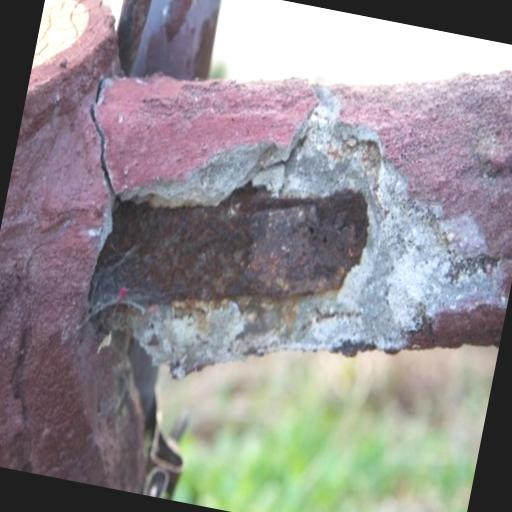segmentation: (0, 0, 512, 493)
